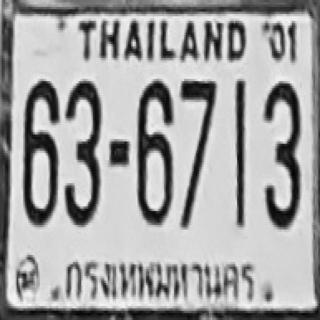N01: (234, 79, 244, 211)
N03: (63, 79, 101, 225), (263, 81, 301, 227)
N06: (22, 79, 59, 225), (136, 79, 172, 225)
N07: (179, 79, 216, 225), (180, 79, 216, 188), (180, 79, 216, 172)
P04: (61, 252, 258, 313)
